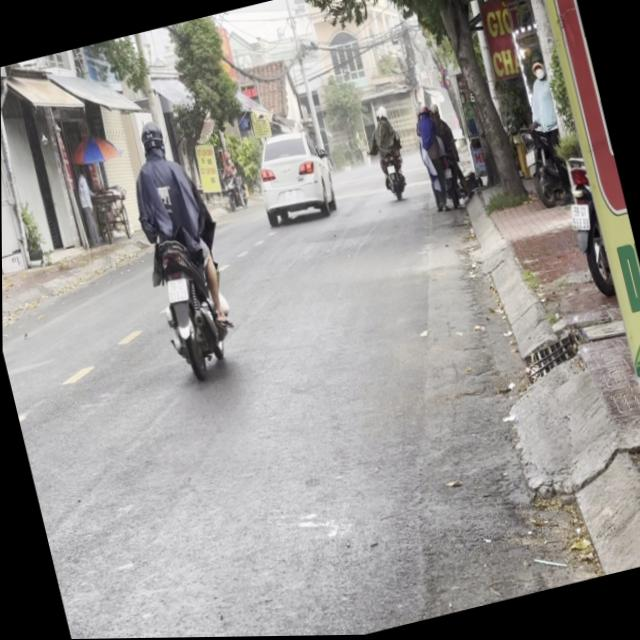helmet: (133, 117, 165, 159)
licenseplate: (111, 106, 245, 386)
nohelmet: (565, 202, 590, 232), (164, 276, 189, 303)
